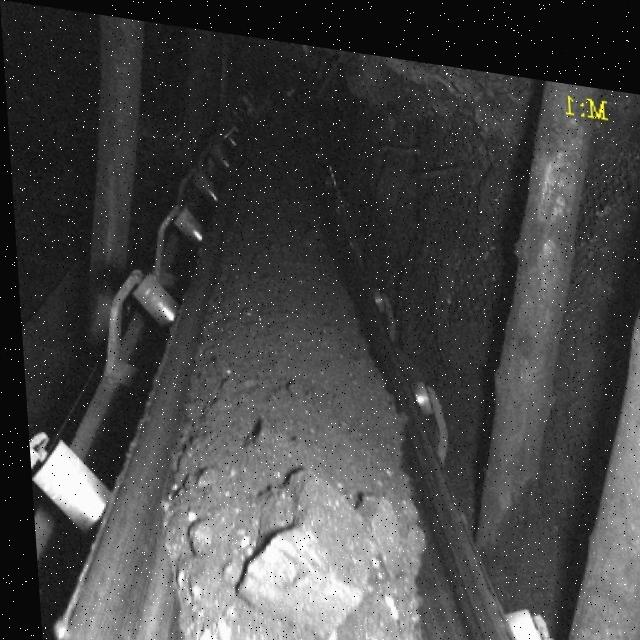large_sized_coal: (222, 450, 369, 629), (354, 482, 417, 574)
